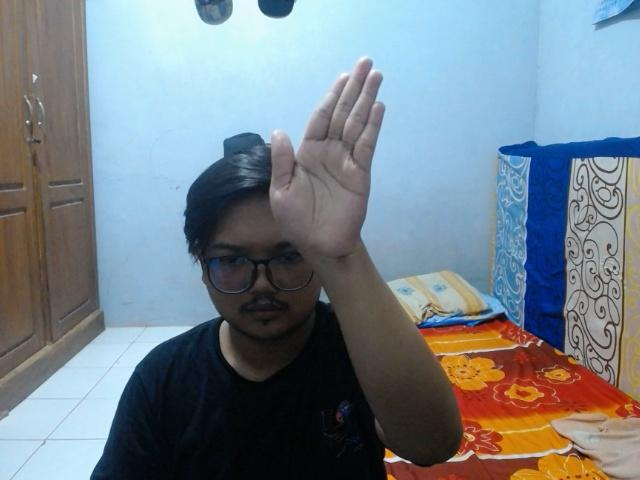Release: (267, 49, 391, 272)
